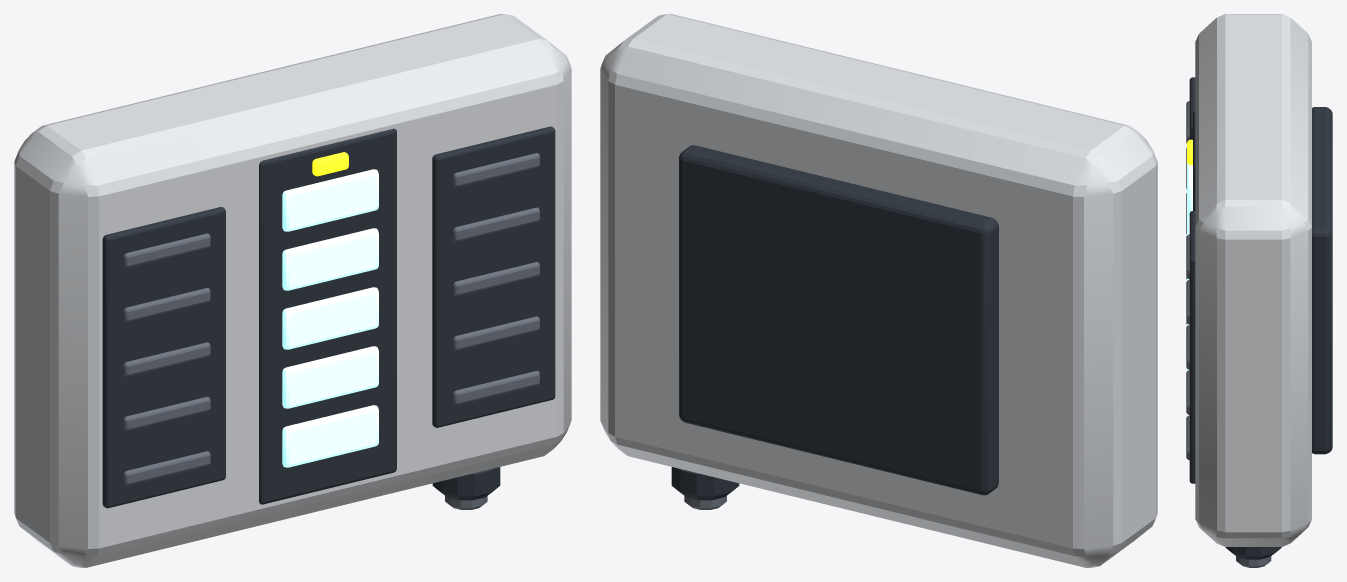
Rendered from Battery_Wall.fbx.
3 renders of one model, left to right at view 1: azimuth 30°, elevation 25°; view 2: azimuth 150°, elevation 25°; view 3: azimuth 270°, elevation 25°, orthographic. The views are drawn at different scales.
Parts seen in each view (by area): view 1: Body, Gauge_4, Gauge_5, Gauge_1, Gauge_2, Gauge_3; view 2: Body; view 3: Body, Gauge_5.
Boxes of the visible parts, x1,y1,x2,y2 form: Body: (14, 14, 571, 567); Gauge_4: (282, 228, 378, 290); Gauge_5: (282, 169, 378, 231); Gauge_1: (282, 405, 378, 467); Gauge_2: (282, 346, 378, 408); Gauge_3: (282, 287, 378, 349); Body: (600, 14, 1157, 567); Body: (1186, 14, 1332, 567); Gauge_5: (1187, 162, 1192, 216).
Size of the model in its own units: 0.6 by 0.51 by 0.176.
